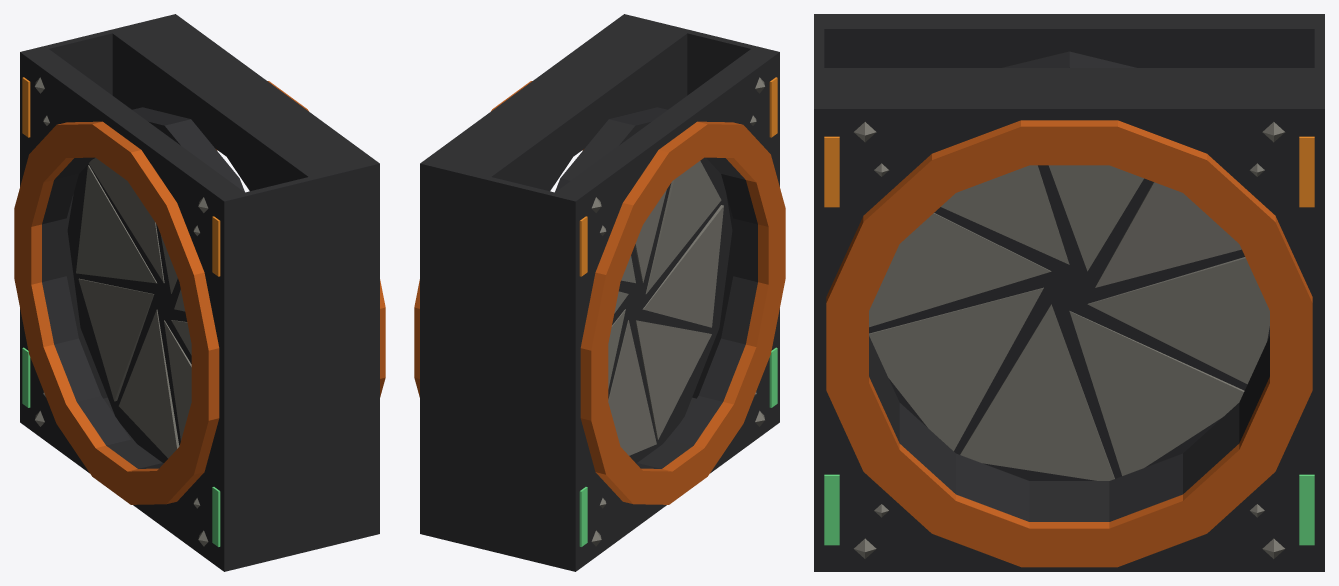
Rendered from pod_hatch.obj.
3 views of the same model, side by side, from view 1: azimuth 30°, elevation 25°; view 2: azimuth 150°, elevation 25°; view 3: azimuth 270°, elevation 25° (orthographic). The views are drawn at different scales.
Parts seen in each view (by area): view 1: body, part; view 2: body, part; view 3: body, part.
Boxes of the visible parts, x1,y1,x2,y2 form: body: (14, 14, 385, 571); part: (67, 107, 244, 462); body: (414, 14, 785, 571); part: (555, 107, 732, 462); body: (814, 14, 1324, 571); part: (869, 51, 1269, 480).
Size of the model in its own units: 1 by 2 by 2.
